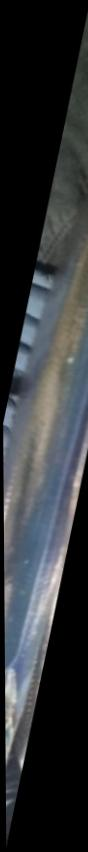fish: (3, 203, 88, 767)
